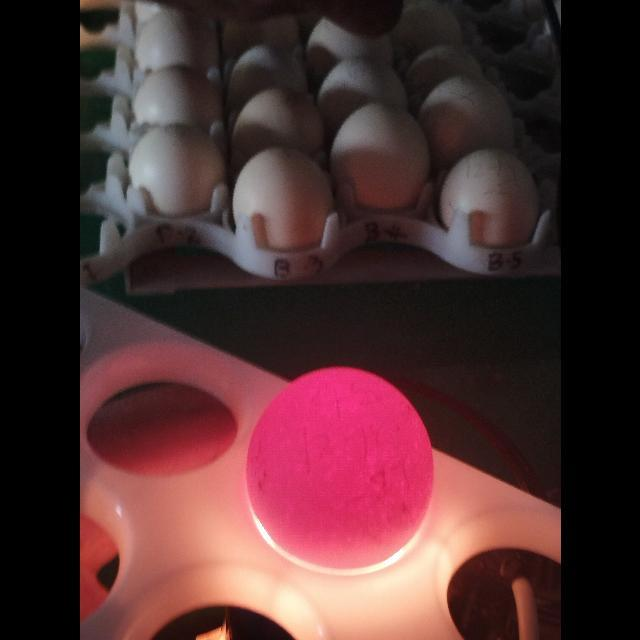Infertile: (243, 362, 447, 572)
